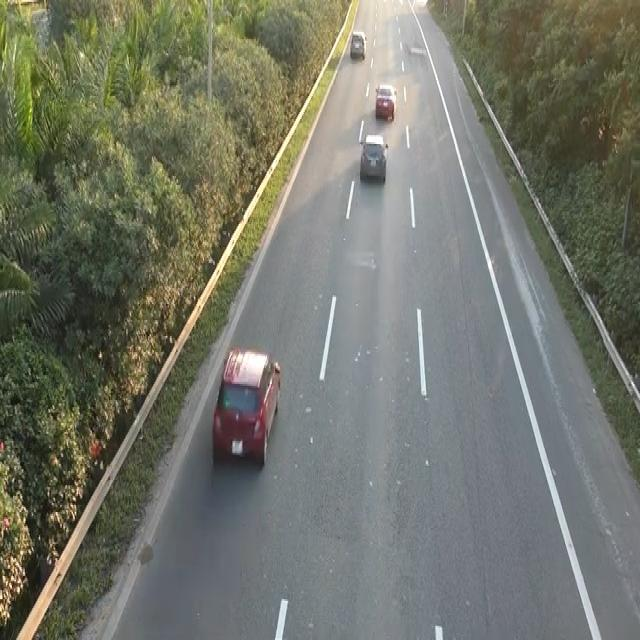bus: (210, 343, 282, 468), (358, 132, 388, 183)
